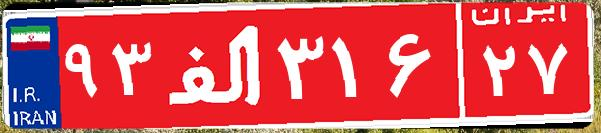1: (330, 28, 385, 110)
2: (475, 38, 525, 113)
3: (273, 28, 330, 110), (110, 28, 158, 105)
6: (385, 28, 445, 110)
7: (525, 38, 570, 115)
9: (57, 26, 110, 107)
الف: (158, 15, 273, 115)
